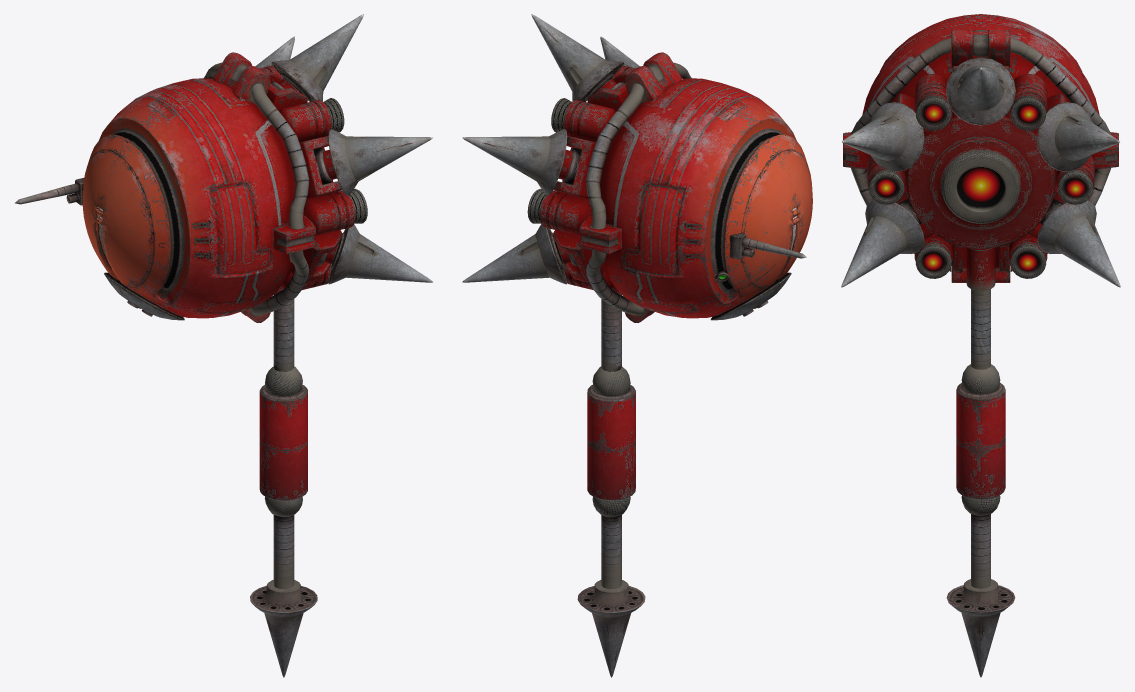
Rendered from ham030.obj.
3 renders of one model, left to right at view 1: azimuth 30°, elevation 25°; view 2: azimuth 150°, elevation 25°; view 3: azimuth 270°, elevation 25°, orthographic.
Visible parts, largest first — view 1: ham030_003_LOD_1, ham030_000_LOD_1; view 2: ham030_003_LOD_1, ham030_000_LOD_1; view 3: ham030_003_LOD_1, ham030_000_LOD_1, ham030_005_LOD_1, ham030_004_LOD_1.
Boxes of the visible parts, x1,y1,x2,y2 form: ham030_003_LOD_1: (15,52,367,677); ham030_000_LOD_1: (255,14,432,284); ham030_003_LOD_1: (527,52,812,677); ham030_000_LOD_1: (462,14,639,284); ham030_003_LOD_1: (843,14,1118,677); ham030_000_LOD_1: (841,57,1120,287); ham030_005_LOD_1: (876,104,1085,271); ham030_004_LOD_1: (961,167,1000,201).
Bounding box in the file's own units: 104 × 205 × 79.82.
